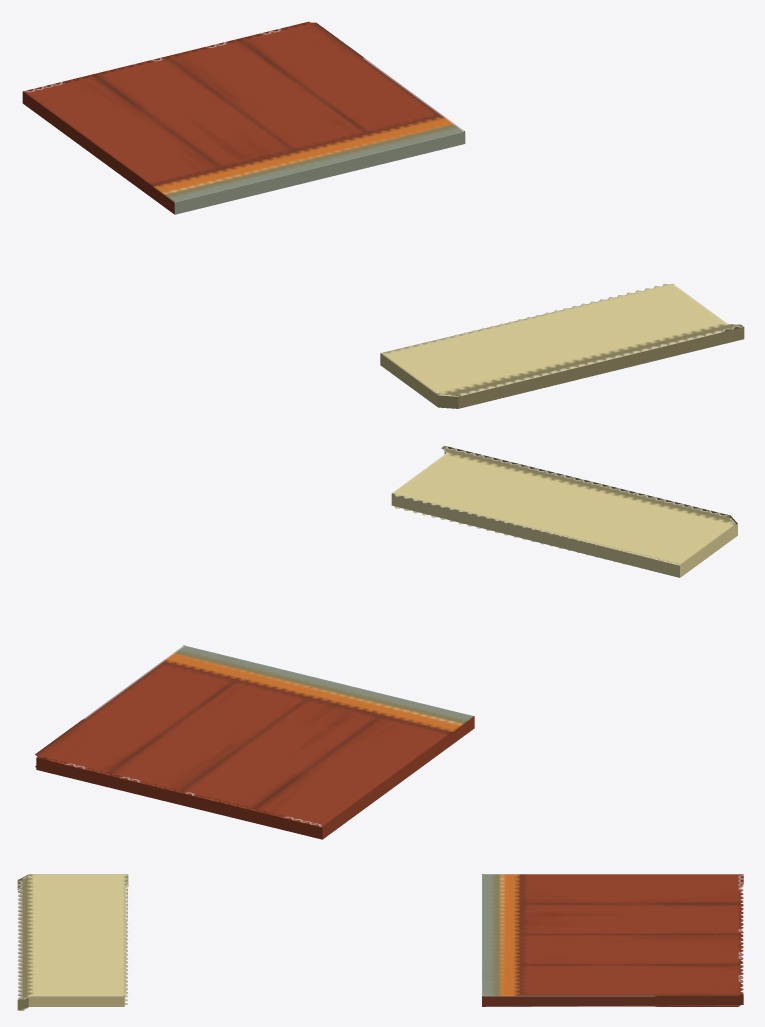
Rendered from pz_native_location_restaurant_spiffos_01_20_frame.obj.
3 renders of one model, top to bottom at view 1: azimuth 30°, elevation 25°; view 2: azimuth 150°, elevation 25°; view 3: azimuth 270°, elevation 25°, orthographic. The views are drawn at different scales.
Visible parts, largest first — view 1: pz_native_location_restaurant_spiffos_01_20_frame; view 2: pz_native_location_restaurant_spiffos_01_20_frame; view 3: pz_native_location_restaurant_spiffos_01_20_frame.
Part boxes in pixels (x1,y1,x2,y2): pz_native_location_restaurant_spiffos_01_20_frame: [22, 21, 744, 408]; pz_native_location_restaurant_spiffos_01_20_frame: [35, 446, 737, 839]; pz_native_location_restaurant_spiffos_01_20_frame: [17, 874, 743, 1010].
Size of the model in its own units: 1.06 by 0.04 by 2.55.
1 material, 1 textured.
